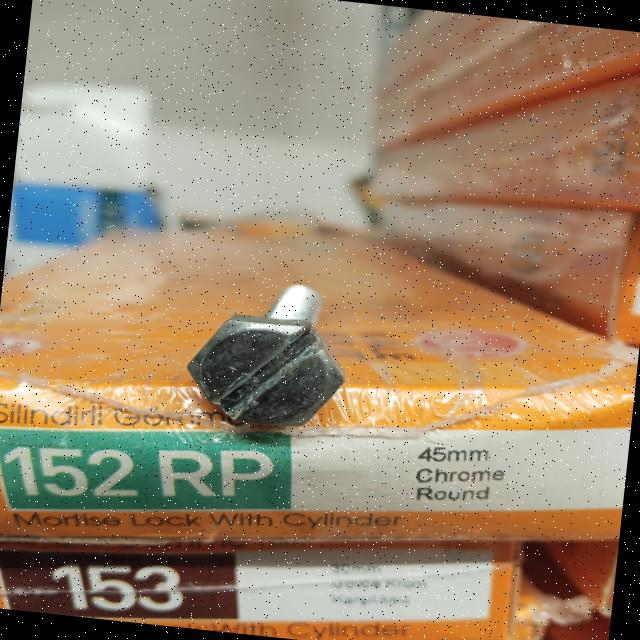Slotted: (179, 308, 349, 439)
